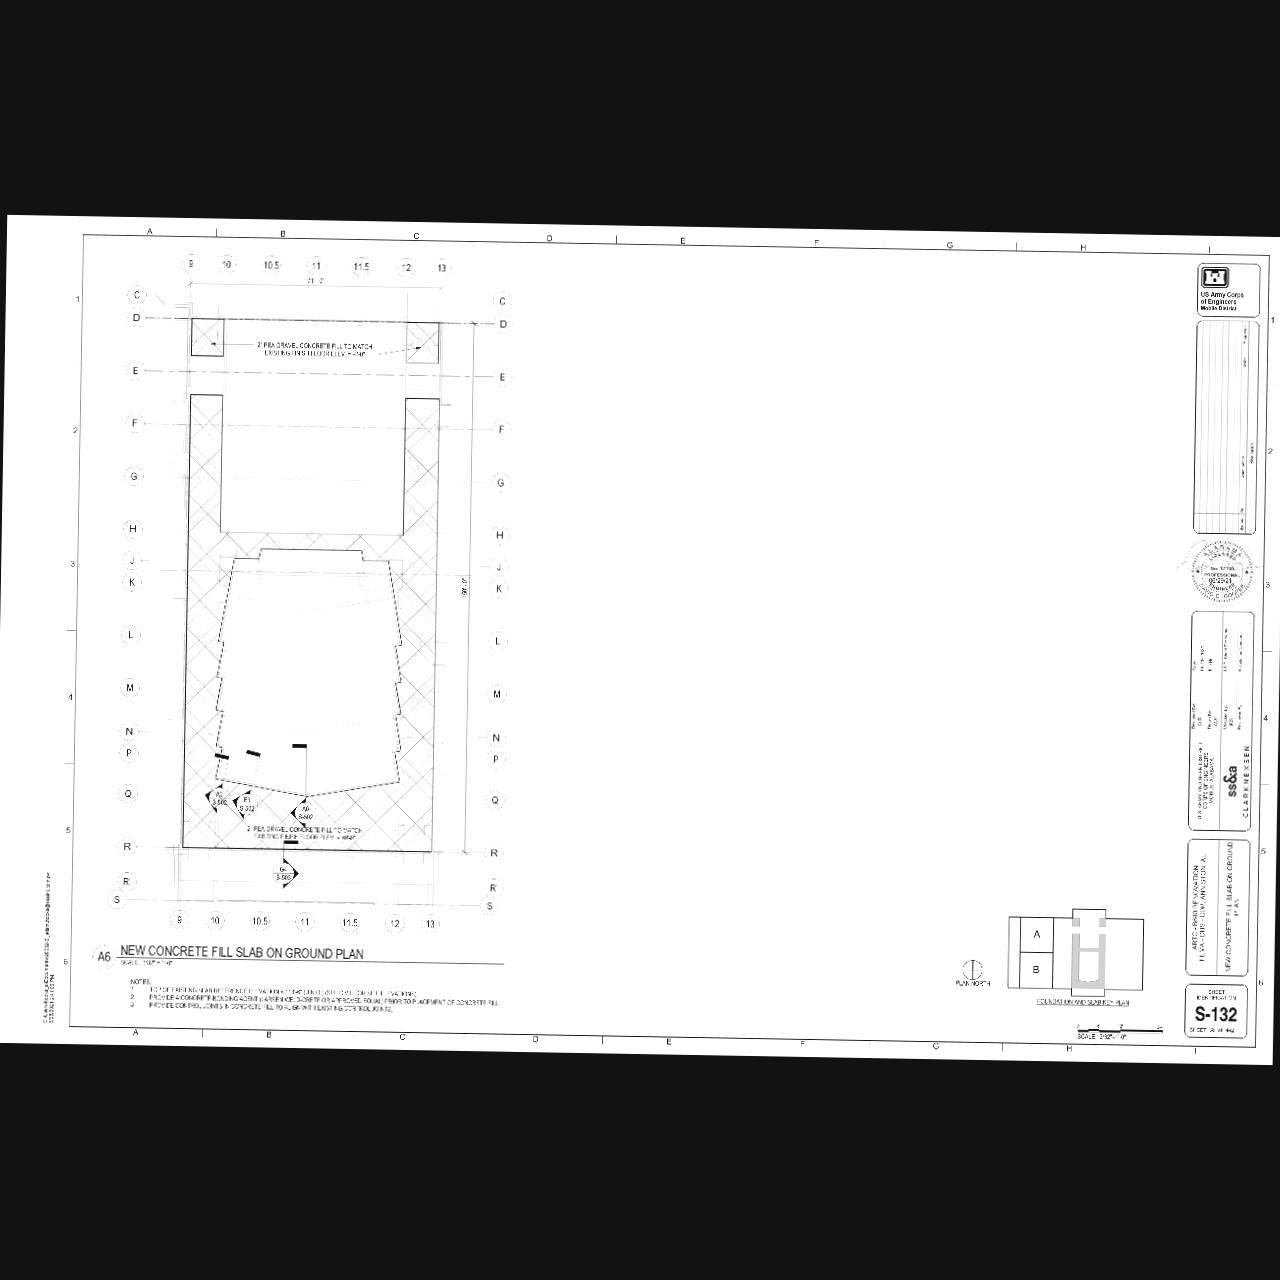elevation: (270, 856, 300, 890), (203, 783, 233, 815), (290, 797, 319, 830), (231, 789, 260, 819)
title: (90, 940, 509, 980)
